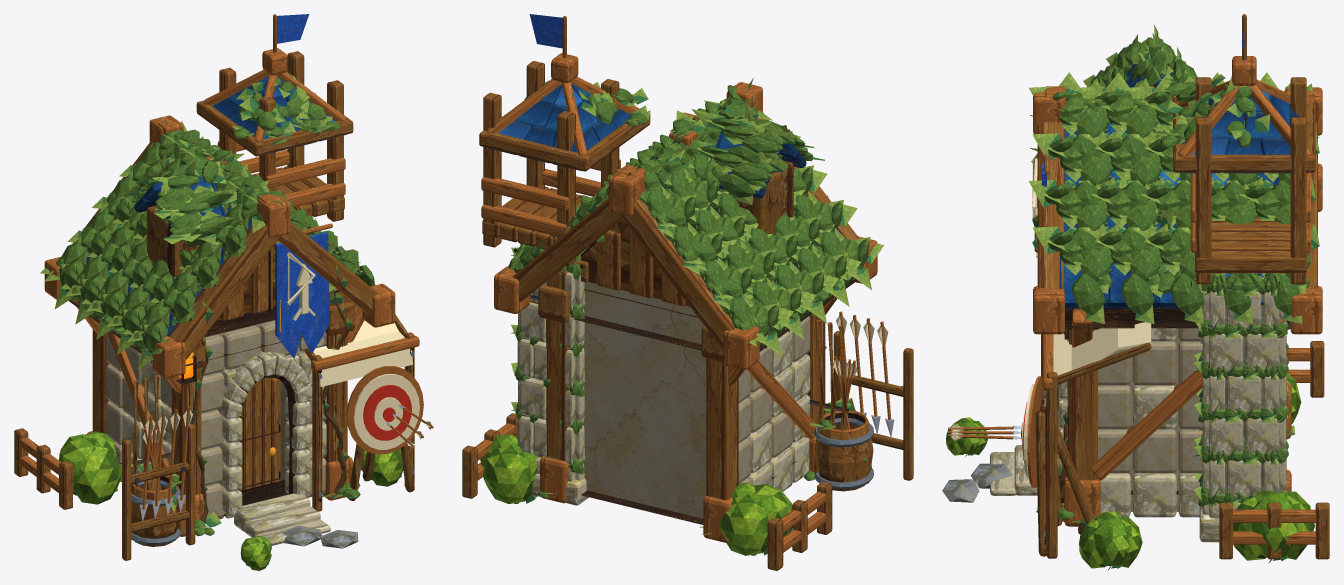
File: archery_range.glb
3 views of the same model, side by side, from view 1: azimuth 30°, elevation 25°; view 2: azimuth 150°, elevation 25°; view 3: azimuth 270°, elevation 25° (orthographic). The views are drawn at different scales.
Parts seen in each view (by area): view 1: Runtime surface 007, Runtime surface 022, Runtime surface 010, Runtime surface 003, Runtime surface 012, Runtime surface 021, Runtime surface 004, Runtime surface 001, Runtime surface 011, Runtime surface 044, Runtime surface 006, Runtime surface 043 (+17 smaller); view 2: Runtime surface 007, Runtime surface 012, Runtime surface 022, Runtime surface 010, Runtime surface 021, Runtime surface 019, Runtime surface 003, Runtime surface 006, Runtime surface 033, Runtime surface 016, Runtime surface 035, Runtime surface 044 (+11 smaller); view 3: Runtime surface 022, Runtime surface 007, Runtime surface 010, Runtime surface 019, Runtime surface 021, Runtime surface 012, Runtime surface 003, Runtime surface 016, Runtime surface 004, Runtime surface 044, Runtime surface 035, Runtime surface 037 (+12 smaller).
Part boxes in pixels (x1,y1,x2,y2): Runtime surface 007: [14, 14, 414, 560]; Runtime surface 022: [56, 129, 374, 508]; Runtime surface 010: [20, 48, 419, 536]; Runtime surface 003: [122, 332, 330, 545]; Runtime surface 012: [106, 320, 326, 519]; Runtime surface 021: [40, 117, 401, 564]; Runtime surface 004: [142, 252, 432, 449]; Runtime surface 001: [275, 232, 329, 358]; Runtime surface 011: [68, 248, 414, 516]; Runtime surface 044: [84, 74, 360, 536]; Runtime surface 006: [131, 205, 407, 532]; Runtime surface 043: [86, 68, 357, 533]; Runtime surface 007: [462, 16, 913, 570]; Runtime surface 012: [582, 282, 810, 518]; Runtime surface 022: [508, 85, 869, 474]; Runtime surface 010: [475, 53, 877, 552]; Runtime surface 021: [507, 78, 883, 554]; Runtime surface 019: [517, 272, 584, 481]; Runtime surface 003: [530, 330, 810, 505]; Runtime surface 006: [580, 160, 903, 449]; Runtime surface 033: [813, 319, 873, 491]; Runtime surface 016: [514, 84, 807, 262]; Runtime surface 035: [480, 413, 827, 555]; Runtime surface 044: [538, 79, 843, 497]; Runtime surface 022: [1044, 38, 1310, 507]; Runtime surface 007: [1037, 14, 1329, 559]; Runtime surface 010: [1033, 56, 1322, 544]; Runtime surface 019: [1202, 291, 1286, 517]; Runtime surface 021: [967, 24, 1319, 568]; Runtime surface 012: [1098, 328, 1202, 511]; Runtime surface 003: [990, 328, 1219, 542]; Runtime surface 016: [1064, 64, 1308, 308]; Runtime surface 004: [950, 158, 1151, 479]; Runtime surface 044: [1036, 37, 1255, 521]; Runtime surface 035: [946, 380, 1314, 568]; Runtime surface 037: [1035, 397, 1094, 556].
Size of the model in its own units: 3.97 by 5.43 by 3.61.
Materials: 42 (33 with a texture image).
